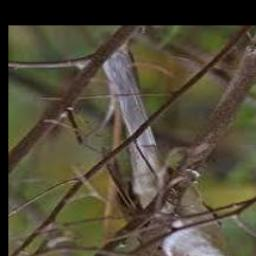Cuckoo: (99, 54, 255, 256)
